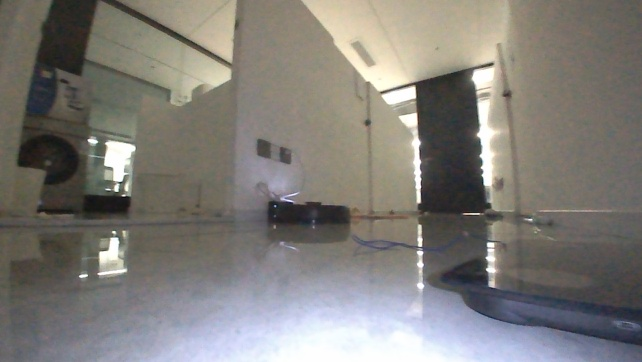door_anno: (492, 15, 535, 220), (345, 57, 378, 217)
toilet: (130, 156, 191, 217)
washing_machine: (15, 113, 94, 219)
weight_scale: (432, 235, 640, 347), (2, 161, 50, 225)
wire: (342, 231, 510, 256), (255, 147, 313, 204)
